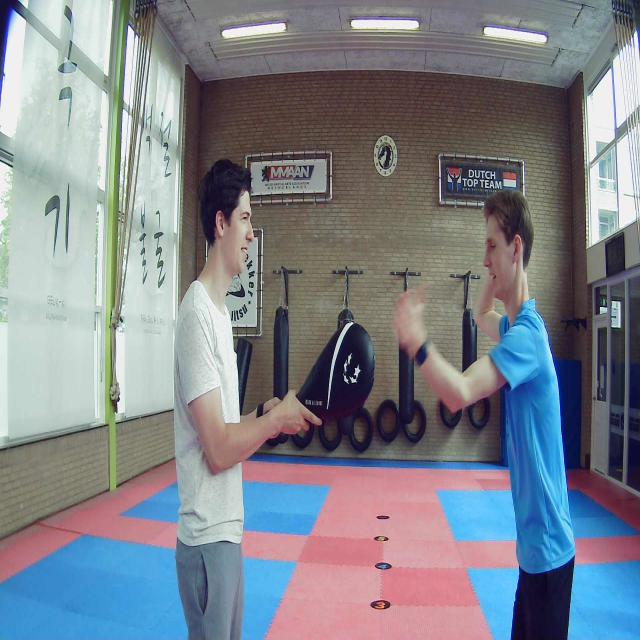paddle: (295, 322, 374, 421)
